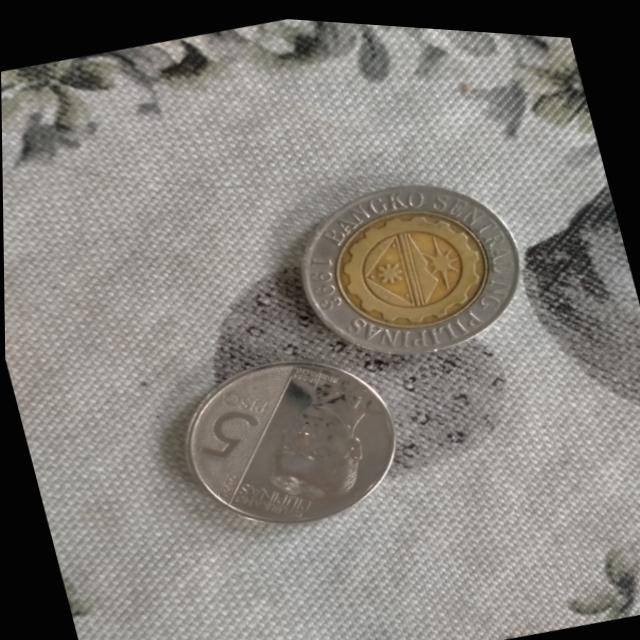10_Old_Back: (282, 147, 538, 372)
5_New_Front: (175, 363, 286, 467)
